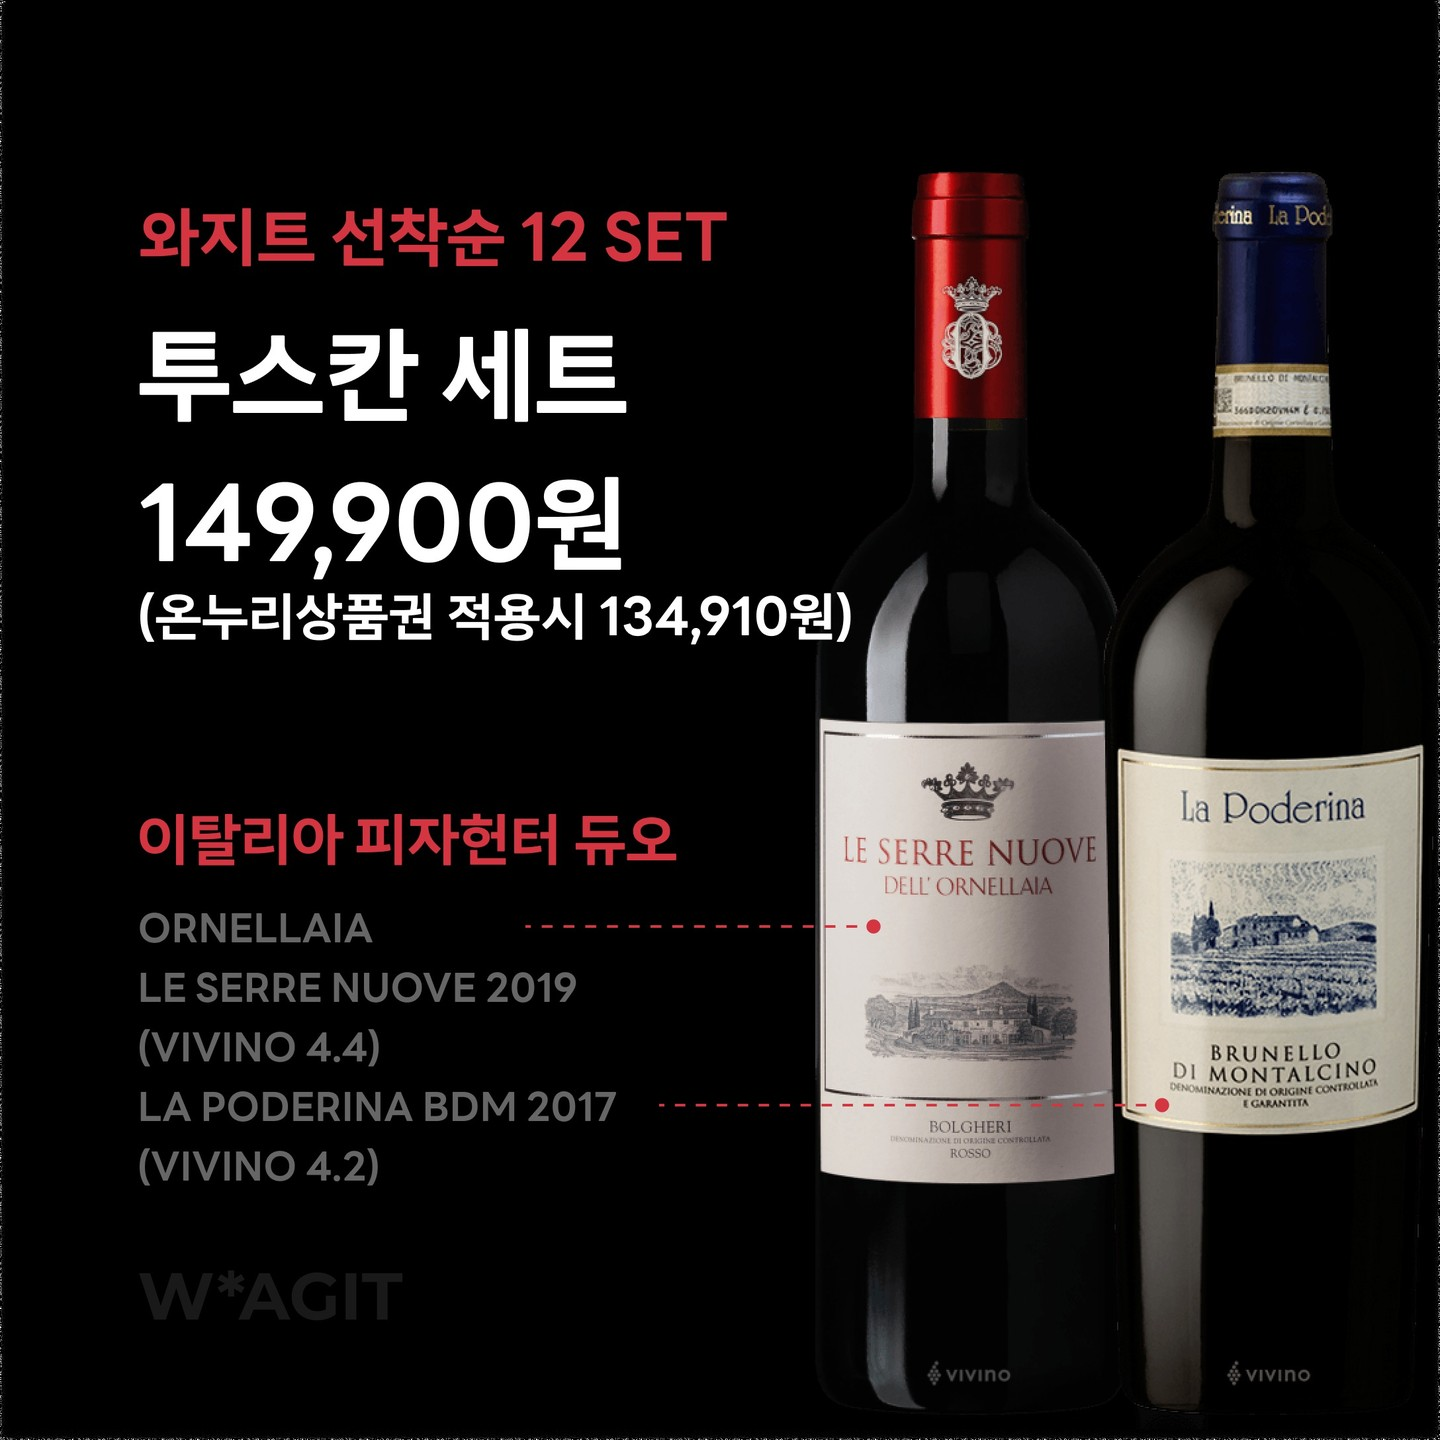alcohol: (804, 160, 1135, 1425), (1102, 160, 1429, 1428)
